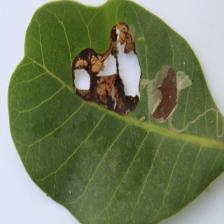leaf miner: (6, 0, 224, 223), (71, 20, 142, 116)
